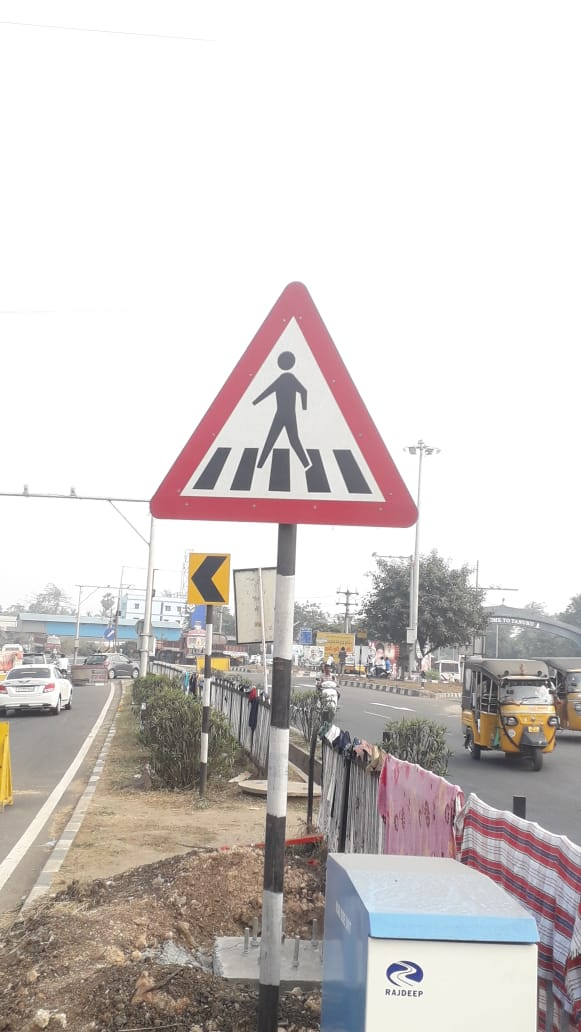pedestrian crossing: (98, 230, 418, 580)
